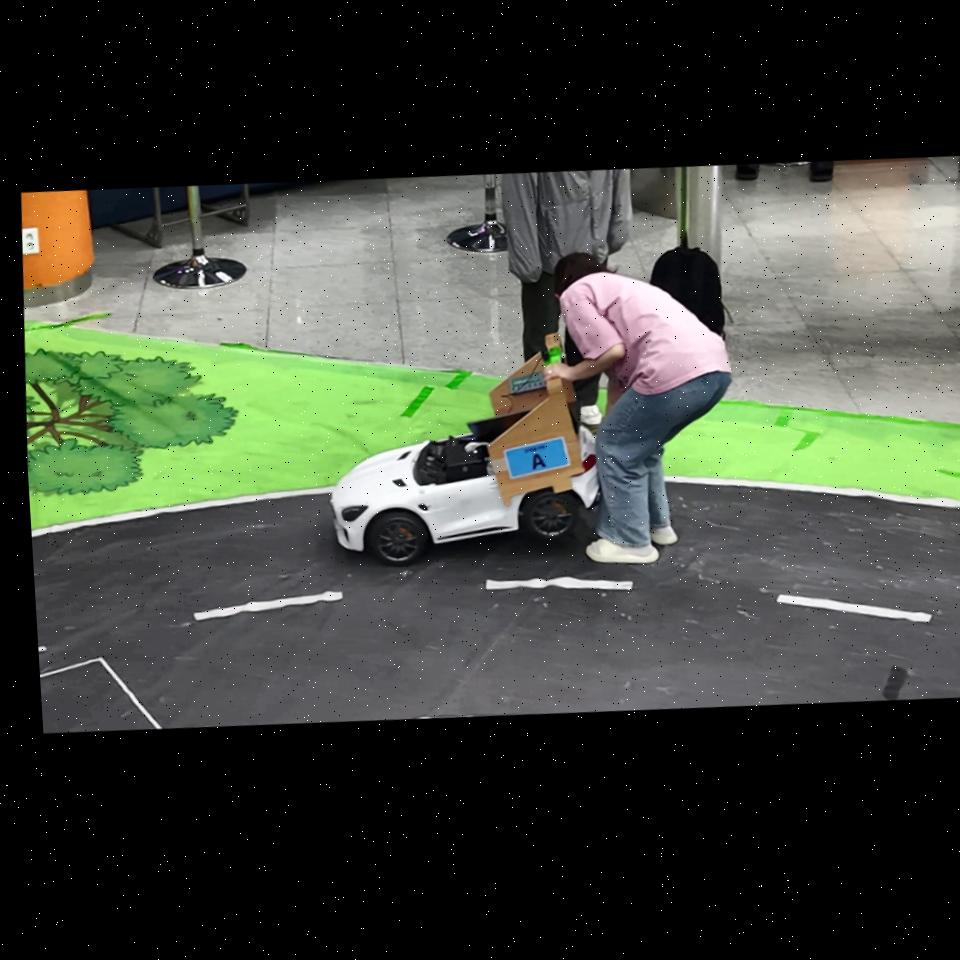broken_line: (194, 591, 343, 621), (777, 594, 932, 622), (486, 577, 633, 590), (38, 646, 47, 653)
